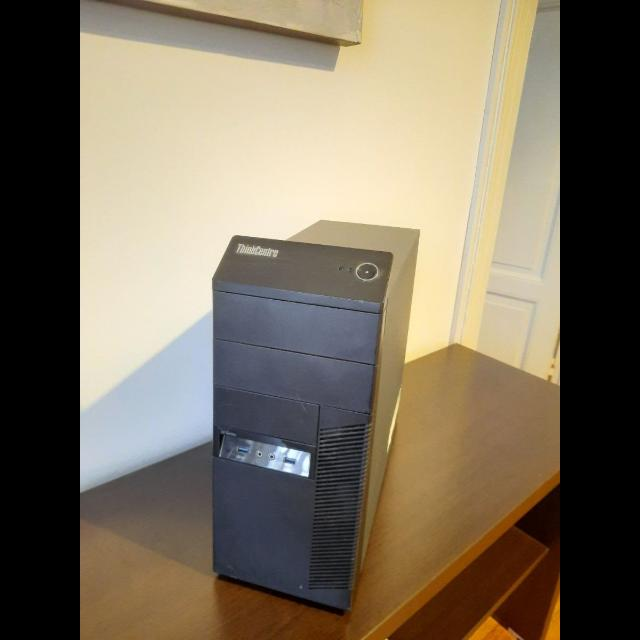Desktop-PC: (212, 220, 406, 610)
